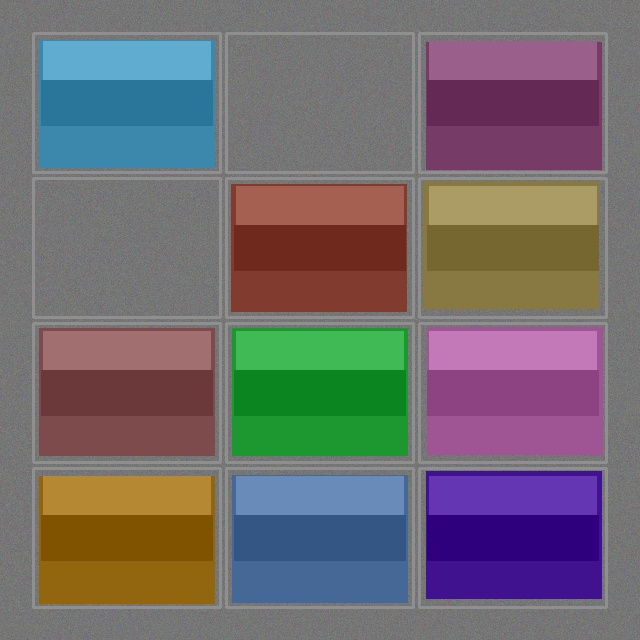space-empty: (228, 35, 411, 170), (35, 180, 218, 315)
space-occupied: (35, 35, 218, 170), (421, 35, 604, 170), (228, 180, 411, 315), (421, 180, 604, 315), (35, 325, 218, 460), (228, 325, 411, 460), (421, 325, 604, 460), (35, 470, 218, 605), (228, 470, 411, 605), (421, 470, 604, 605)
